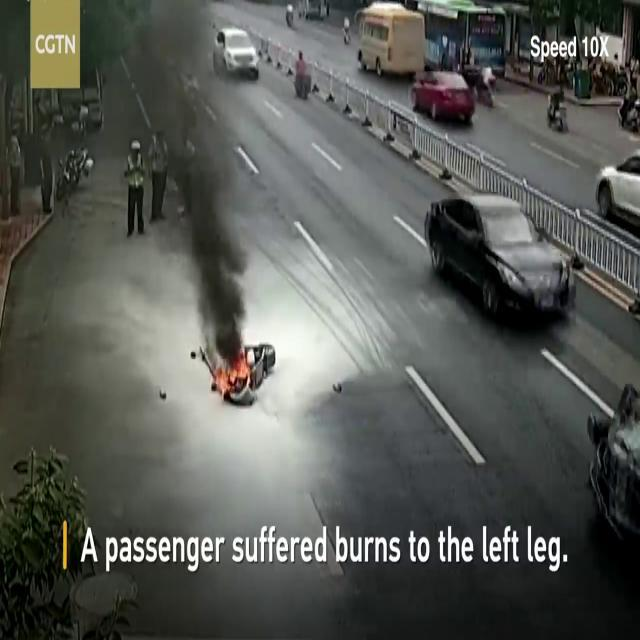Fire: (212, 360, 252, 394)
Smoke: (112, 0, 254, 345)
